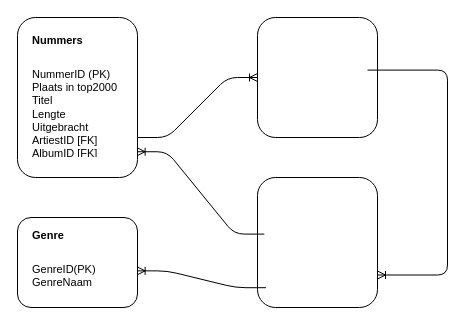
Image size: 473x325. Some labels were removed from this diagram. Here are the shapes that lost their labels. From the top down, the box of each, then its label:
(256, 16, 378, 138): Artiest ArtiestID (PK) Voornaam Tussenvoegsel Achternaam Geboortedatum
(256, 176, 378, 308): Album AlbumID (PK) Albumnaam Aantalnummers ArtiestID [FK] GenreID [FK]
